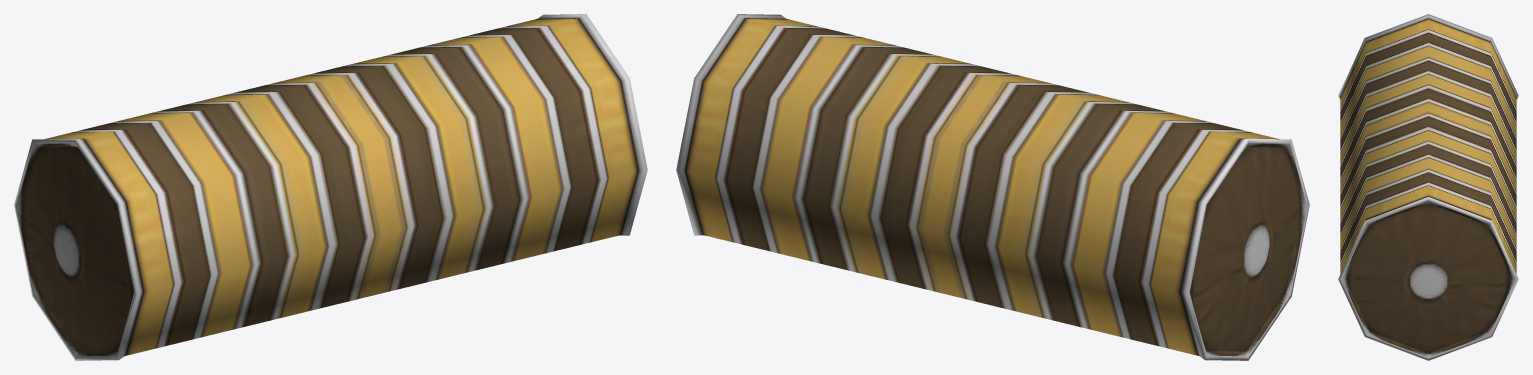
The model's file is p6_pillow_boat_long_01_lod2.glb.
3 renders of one model, left to right at view 1: azimuth 30°, elevation 25°; view 2: azimuth 150°, elevation 25°; view 3: azimuth 270°, elevation 25°, orthographic. The views are drawn at different scales.
Parts seen in each view (by area): view 1: surf0; view 2: surf0; view 3: surf0.
Part boxes in pixels (bbox=[...]): surf0: bbox=[14, 14, 647, 360]; surf0: bbox=[676, 14, 1309, 360]; surf0: bbox=[1338, 14, 1518, 360].
Size of the model in its own units: 30.08 by 11.94 by 11.94.
